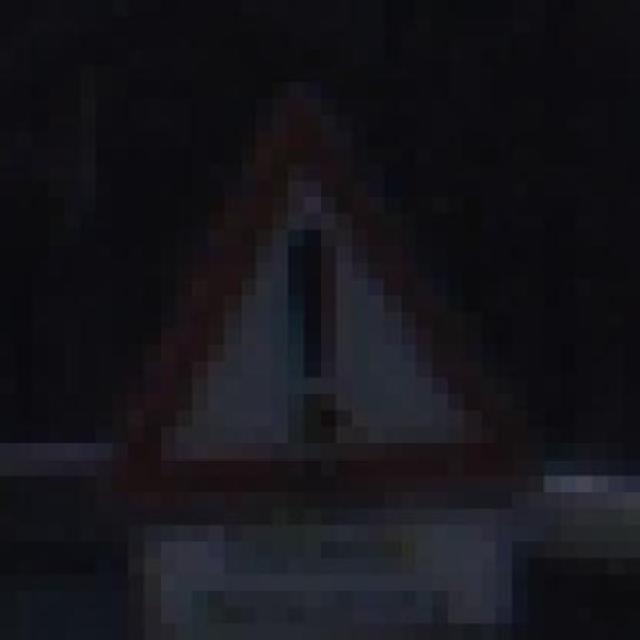Attention Please-: (64, 81, 544, 542)
